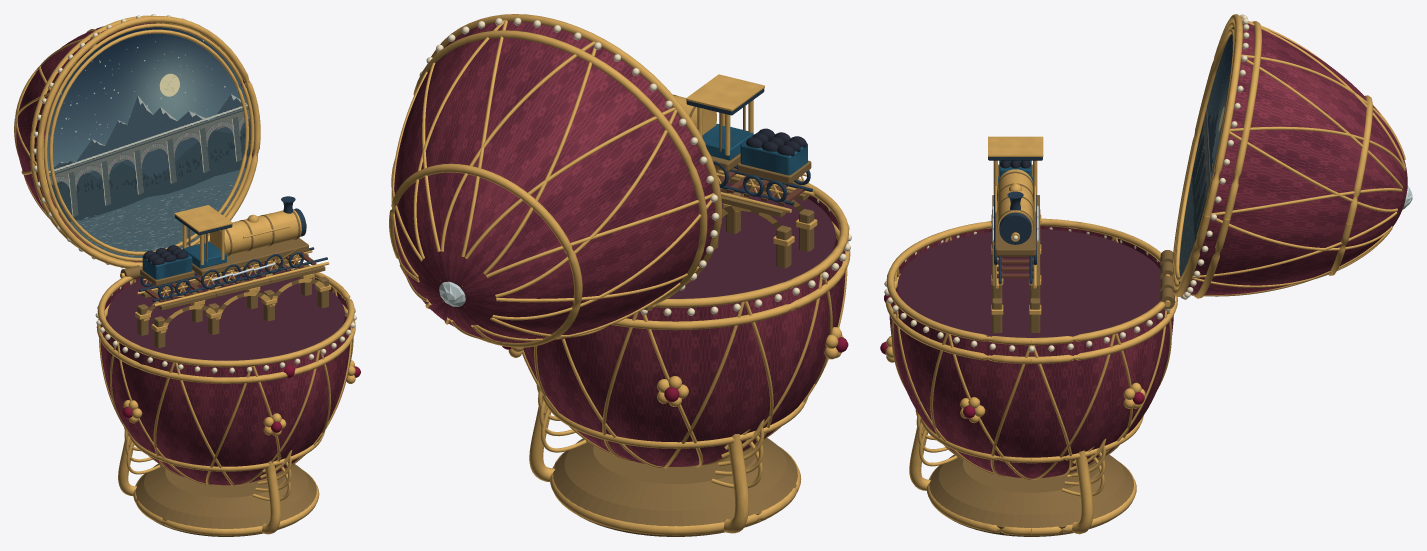
The model's file is rose_egg.fbx.
The picture shows the model from 3 angles, left to right: view 1: azimuth 30°, elevation 25°; view 2: azimuth 150°, elevation 25°; view 3: azimuth 270°, elevation 25°; orthographic projection. The views are drawn at different scales.
Visible parts, largest first — view 1: rose_egg joinery; view 2: rose_egg joinery; view 3: rose_egg joinery.
Boxes of the visible parts, bbox=[...] form: rose_egg joinery: bbox=[14, 14, 360, 536]; rose_egg joinery: bbox=[389, 14, 851, 536]; rose_egg joinery: bbox=[880, 14, 1412, 536].
Bounding box in the file's own units: 0.0865 × 0.1517 × 0.1547.
